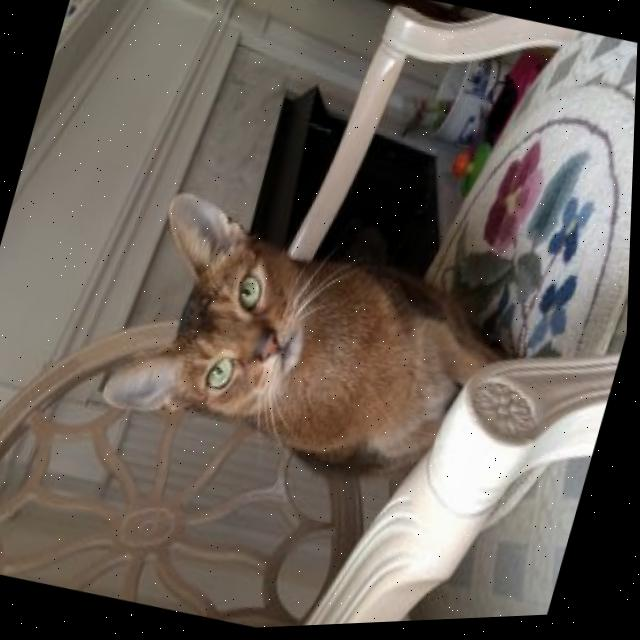Abyssinian: (86, 156, 568, 531)
